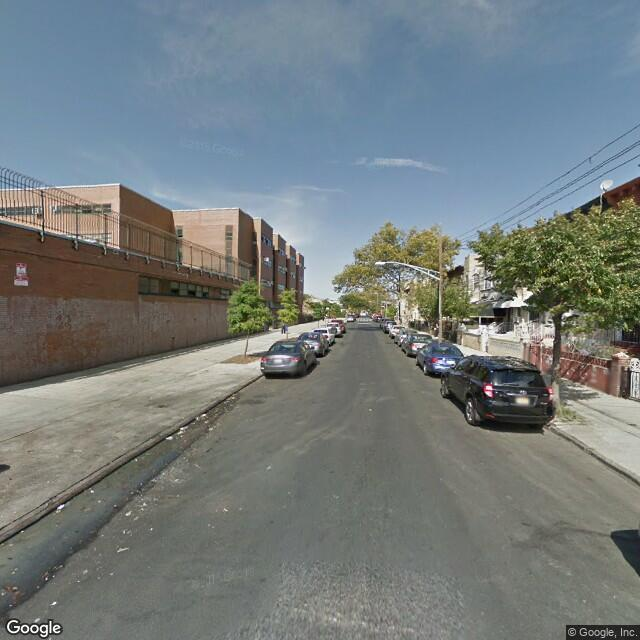litter: (176, 425, 191, 432), (192, 414, 209, 420), (140, 503, 148, 515), (52, 504, 68, 509), (88, 487, 98, 494), (222, 507, 233, 513), (207, 426, 216, 432), (116, 547, 129, 551), (146, 526, 156, 531), (133, 456, 141, 462), (49, 601, 58, 606), (200, 412, 211, 416), (124, 510, 133, 514), (367, 407, 373, 412), (165, 435, 174, 438)
